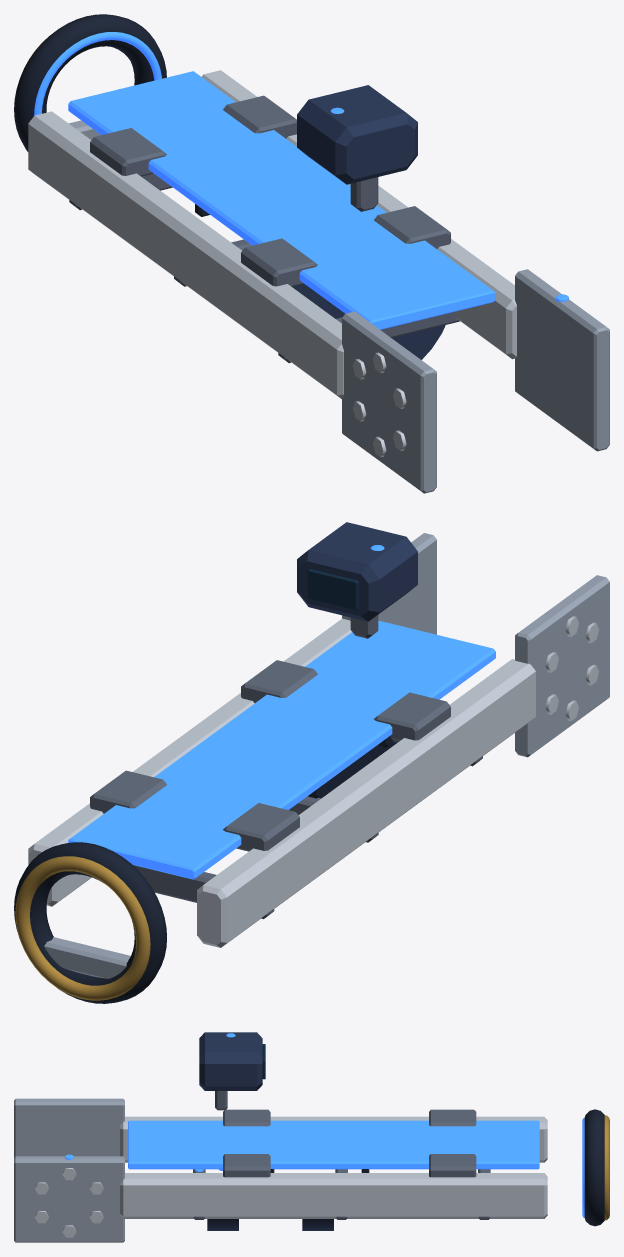
File: tower_lance_damage_s8.glb
3 renders of one model, top to bottom at view 1: azimuth 30°, elevation 25°; view 2: azimuth 150°, elevation 25°; view 3: azimuth 270°, elevation 25°, orthographic. The views are drawn at different scales.
Visible parts, largest first — view 1: lance_accelerator_b, lance_heavy_rail_r, lance_breech_cheek_l, lance_breech_cheek_r, lance_sensor_pod, lance_coil4, lance_heavy_rail_l, lance_heavy_rail_brace_r, lance_heavy_rail_brace2_r, lance_heavy_rail_brace_l, lance_heavy_rail_brace2_l, lance_coil4_glow (+4 smaller); view 2: lance_accelerator_b, lance_heavy_rail_r, lance_breech_cheek_r, lance_sensor_pod, lance_coil4, lance_coil_winding4, lance_heavy_rail_l, lance_breech_cheek_l, lance_heavy_rail_brace2_r, lance_heavy_rail_brace_r, lance_insulator4, lance_heavy_rail_brace2_l (+5 smaller); view 3: lance_heavy_rail_l, lance_accelerator_b, lance_breech_cheek_l, lance_breech_cheek_r, lance_sensor_pod, lance_coil4, lance_heavy_rail_r, lance_heavy_rail_brace_l, lance_heavy_rail_brace2_l, lance_cheek_bolts_r, lance_heavy_rail_brace_r, lance_heavy_rail_brace2_r (+4 smaller).
Boxes of the visible parts, left/top/right/bottom form: lance_accelerator_b: left=68, top=71, right=495, bottom=329; lance_heavy_rail_r: left=28, top=111, right=343, bottom=398; lance_breech_cheek_l: left=515, top=269, right=609, bottom=451; lance_breech_cheek_r: left=342, top=311, right=436, bottom=493; lance_sensor_pod: left=297, top=85, right=417, bottom=184; lance_coil4: left=14, top=14, right=166, bottom=151; lance_heavy_rail_l: left=201, top=70, right=516, bottom=359; lance_heavy_rail_brace_r: left=241, top=238, right=317, bottom=286; lance_heavy_rail_brace2_r: left=90, top=128, right=166, bottom=176; lance_heavy_rail_brace_l: left=374, top=206, right=450, bottom=248; lance_heavy_rail_brace2_l: left=223, top=95, right=296, bottom=138; lance_coil4_glow: left=34, top=32, right=161, bottom=115; lance_accelerator_b: left=68, top=620, right=495, bottom=879; lance_heavy_rail_r: left=197, top=659, right=535, bottom=947; lance_breech_cheek_r: left=515, top=575, right=609, bottom=757; lance_sensor_pod: left=297, top=522, right=417, bottom=621; lance_coil4: left=14, top=842, right=166, bottom=1003; lance_coil_winding4: left=15, top=856, right=150, bottom=1000; lance_heavy_rail_l: left=28, top=618, right=351, bottom=906; lance_breech_cheek_l: left=342, top=533, right=436, bottom=634; lance_heavy_rail_brace2_r: left=223, top=803, right=299, bottom=851; lance_heavy_rail_brace_r: left=374, top=692, right=450, bottom=740; lance_insulator4: left=44, top=937, right=130, bottom=978; lance_heavy_rail_brace2_l: left=90, top=770, right=166, bottom=813; lance_heavy_rail_l: left=120, top=1173, right=547, bottom=1218; lance_accelerator_b: left=128, top=1120, right=539, bottom=1169; lance_breech_cheek_l: left=14, top=1156, right=124, bottom=1242; lance_breech_cheek_r: left=14, top=1098, right=124, bottom=1157; lance_sensor_pod: left=199, top=1032, right=262, bottom=1090; lance_coil4: left=584, top=1109, right=604, bottom=1226; lance_heavy_rail_r: left=120, top=1116, right=547, bottom=1162; lance_heavy_rail_brace_l: left=223, top=1154, right=270, bottom=1177; lance_heavy_rail_brace2_l: left=429, top=1154, right=476, bottom=1177; lance_cheek_bolts_r: left=35, top=1168, right=103, bottom=1237; lance_heavy_rail_brace_r: left=223, top=1109, right=270, bottom=1126; lance_heavy_rail_brace2_r: left=429, top=1109, right=476, bottom=1126.
Bounding box in the file's own units: 0.9896 × 1.28 × 3.76.
